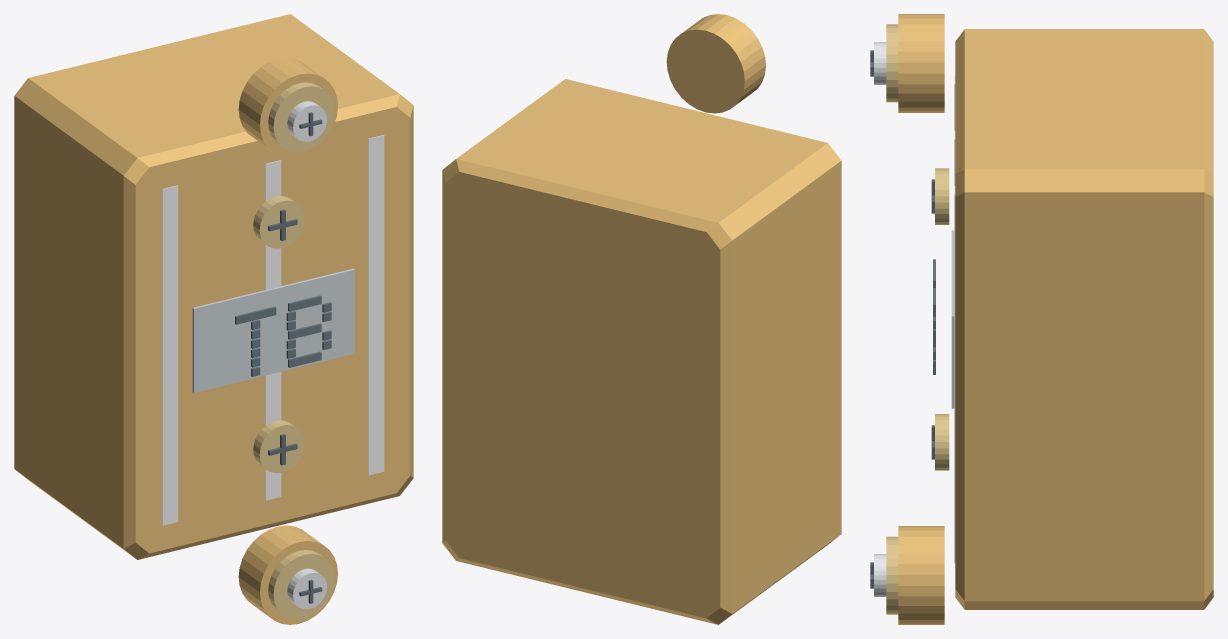
The model's file is terminalBlock.glb.
3 views of the same model, side by side, from view 1: azimuth 30°, elevation 25°; view 2: azimuth 150°, elevation 25°; view 3: azimuth 270°, elevation 25° (orthographic). The views are drawn at different scales.
Visible parts, largest first — view 1: terminalBlock-detailed; view 2: terminalBlock-detailed; view 3: terminalBlock-detailed.
Part boxes in pixels (bbox=[...]): terminalBlock-detailed: bbox=[14, 14, 413, 624]; terminalBlock-detailed: bbox=[442, 14, 841, 624]; terminalBlock-detailed: bbox=[870, 14, 1213, 624].
Bounding box in the file's own units: 1.16 × 2.11 × 1.09.
